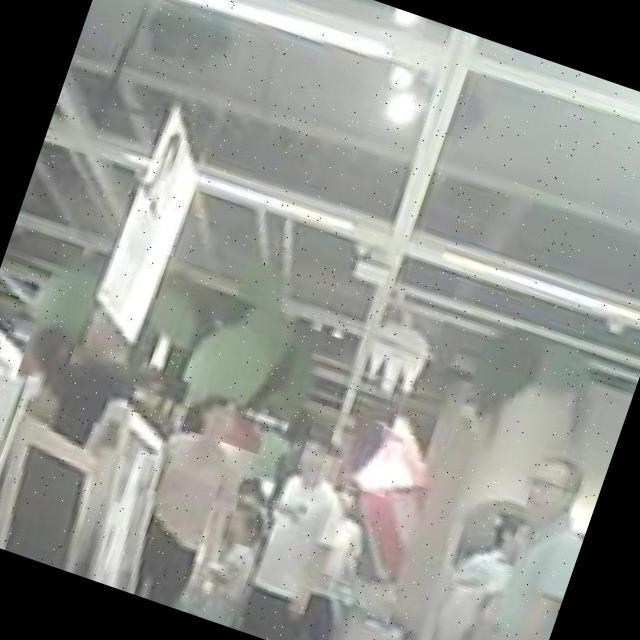person: (116, 384, 270, 617), (442, 445, 606, 640), (227, 429, 376, 640)
